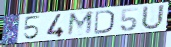4: (46, 12, 66, 38)
5: (120, 7, 140, 32), (23, 15, 42, 41)
D: (93, 10, 116, 36)
M: (65, 10, 95, 38)
U: (140, 4, 166, 32)
